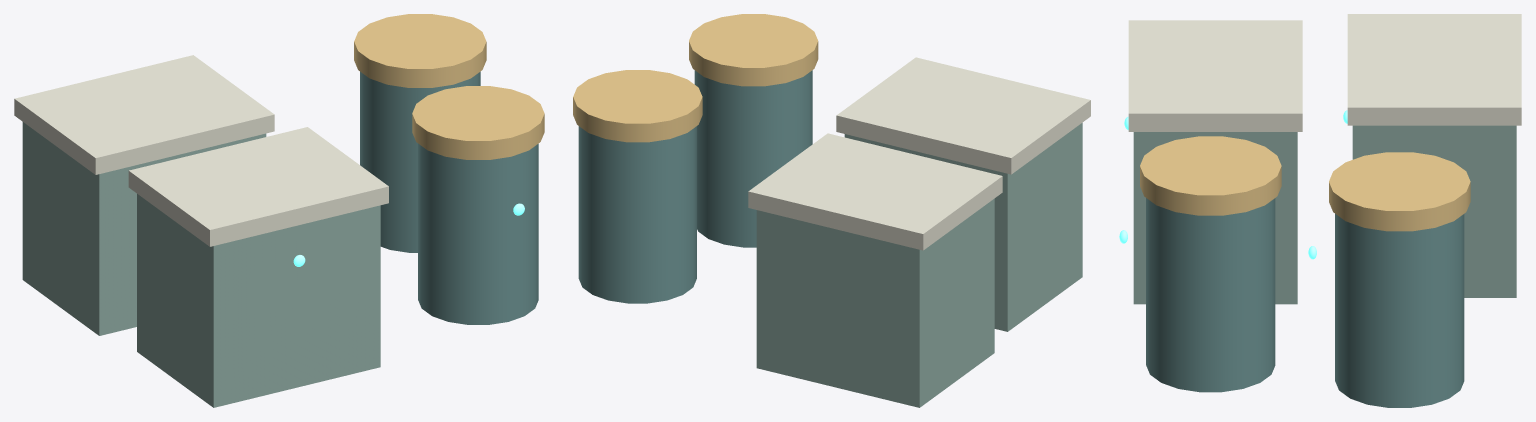
The model's file is cargo-crates.glb.
3 views of the same model, side by side, from view 1: azimuth 30°, elevation 25°; view 2: azimuth 150°, elevation 25°; view 3: azimuth 270°, elevation 25° (orthographic). The views are drawn at different scales.
Visible parts, largest first — view 1: cargo.crate.2, cargo.canister.3, cargo.crate.0, cargo.crate.lid.0, cargo.crate.lid.2, cargo.canister.top.3, cargo.canister.1, cargo.canister.top.1; view 2: cargo.crate.0, cargo.canister.1, cargo.crate.lid.0, cargo.crate.lid.2, cargo.crate.2, cargo.canister.3, cargo.canister.top.3, cargo.canister.top.1; view 3: cargo.canister.3, cargo.canister.1, cargo.crate.lid.0, cargo.crate.lid.2, cargo.crate.0, cargo.canister.top.3, cargo.canister.top.1, cargo.crate.2.
Boxes of the visible parts, x1,y1,x2,y2 form: cargo.crate.2: (137,194,380,407); cargo.canister.3: (418,143,538,324); cargo.crate.0: (22,122,266,335); cargo.crate.lid.0: (14,55,274,174); cargo.crate.lid.2: (128,127,388,246); cargo.canister.top.3: (412,86,544,159); cargo.canister.1: (360,71,480,252); cargo.canister.top.1: (354,14,486,87); cargo.crate.0: (756,198,994,407); cargo.canister.1: (578,126,696,303); cargo.crate.lid.0: (748,133,1002,250); cargo.crate.lid.2: (836,57,1090,174); cargo.crate.2: (844,123,1082,331); cargo.canister.3: (694,70,812,247); cargo.canister.top.3: (689,14,818,86); cargo.canister.top.1: (573,70,702,142); cargo.canister.3: (1146,198,1275,392); cargo.canister.1: (1335,214,1464,407); cargo.crate.lid.0: (1347,14,1521,125); cargo.crate.lid.2: (1128,20,1302,131); cargo.crate.0: (1352,125,1516,297); cargo.canister.top.3: (1140,136,1281,215); cargo.canister.top.1: (1329,152,1470,231); cargo.crate.2: (1133,132,1297,304).
Bounding box in the file's own units: 2.02 × 0.925 × 1.62.
